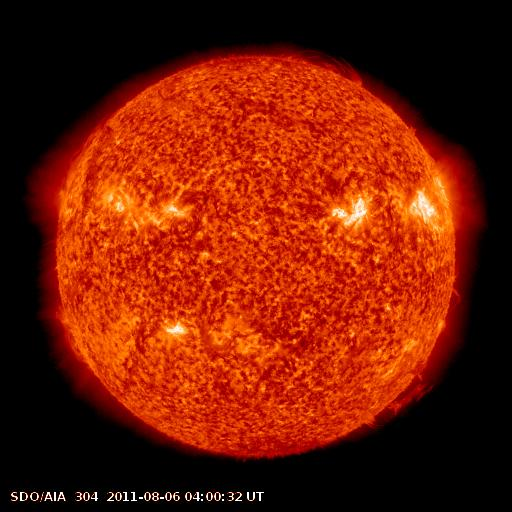prominence: (57, 107, 116, 217), (359, 371, 443, 434), (269, 42, 373, 91), (48, 301, 96, 373), (440, 281, 471, 314)
